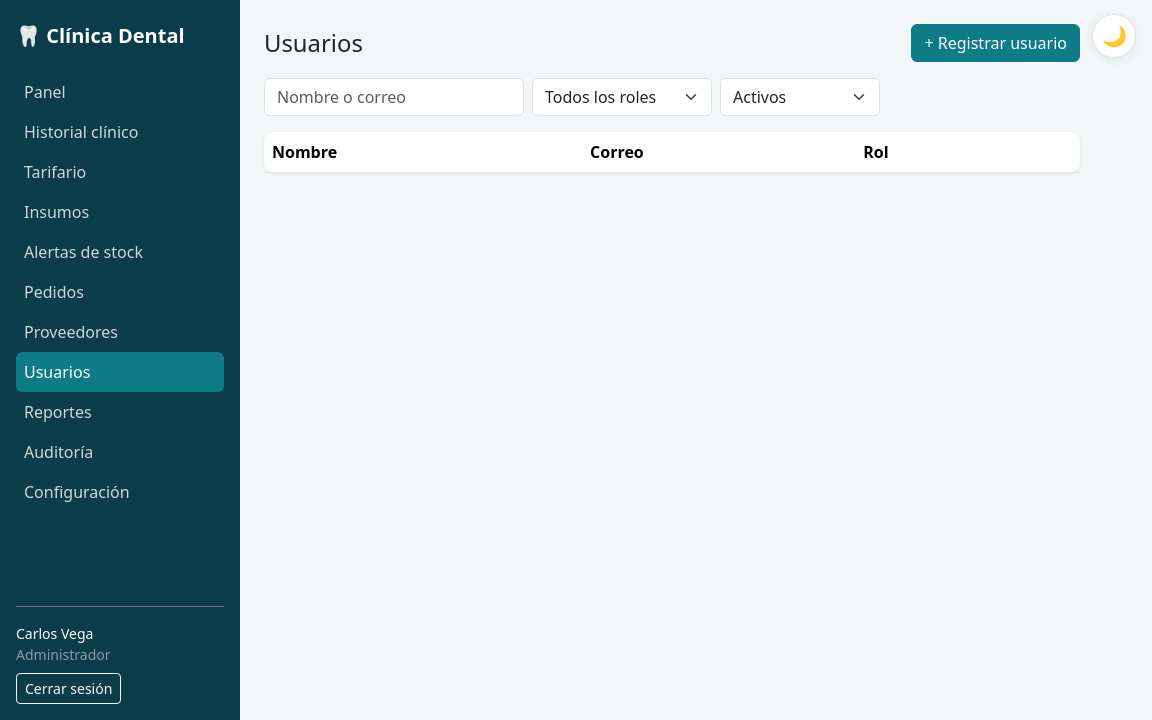
Test: Sesión › «Cerrar sesión» lleva al login de inmediato
Step 1. Click the button "Cerrar sesión" → (69, 688), box [16, 673, 121, 704]
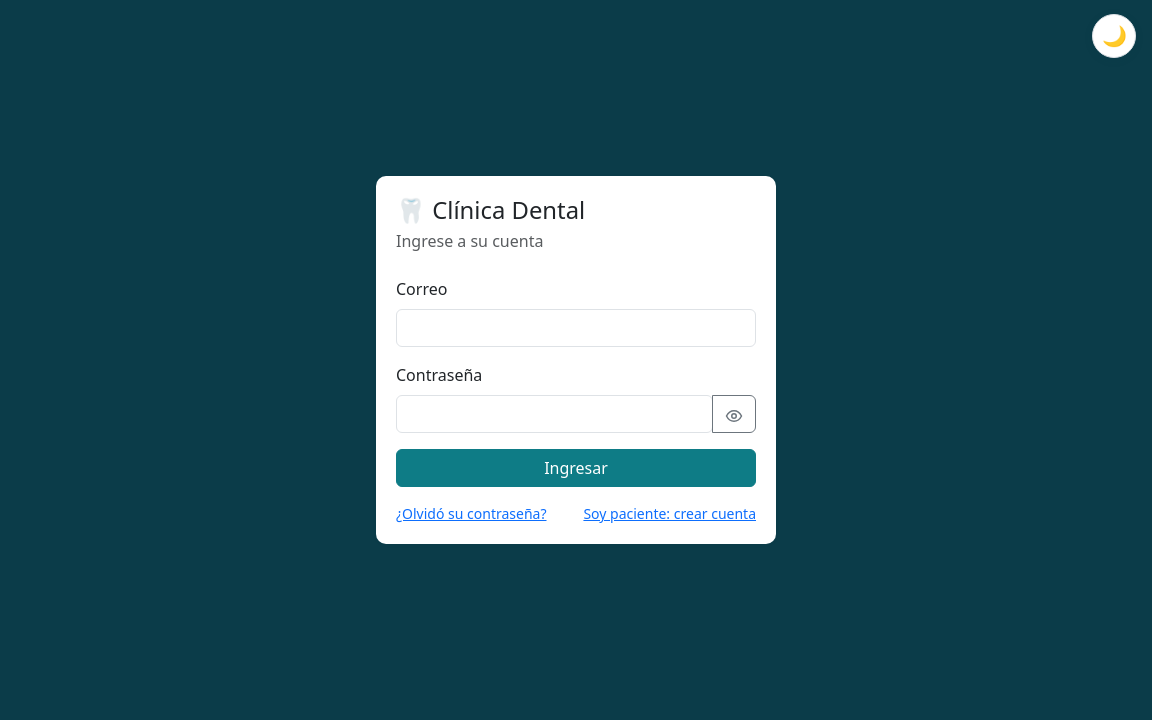
Check: the text "Ingrese a su cuenta" is shown, box [396, 230, 543, 252]
